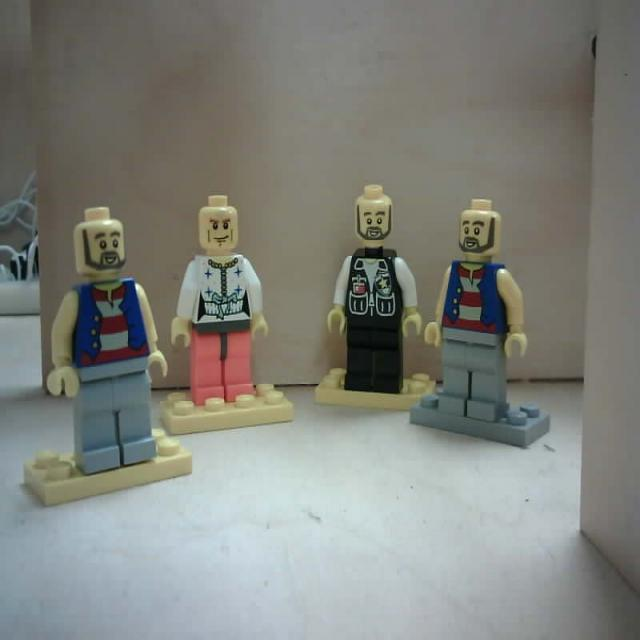Lego-People: (23, 210, 193, 508), (173, 196, 297, 433), (425, 198, 531, 438), (323, 180, 423, 404)
